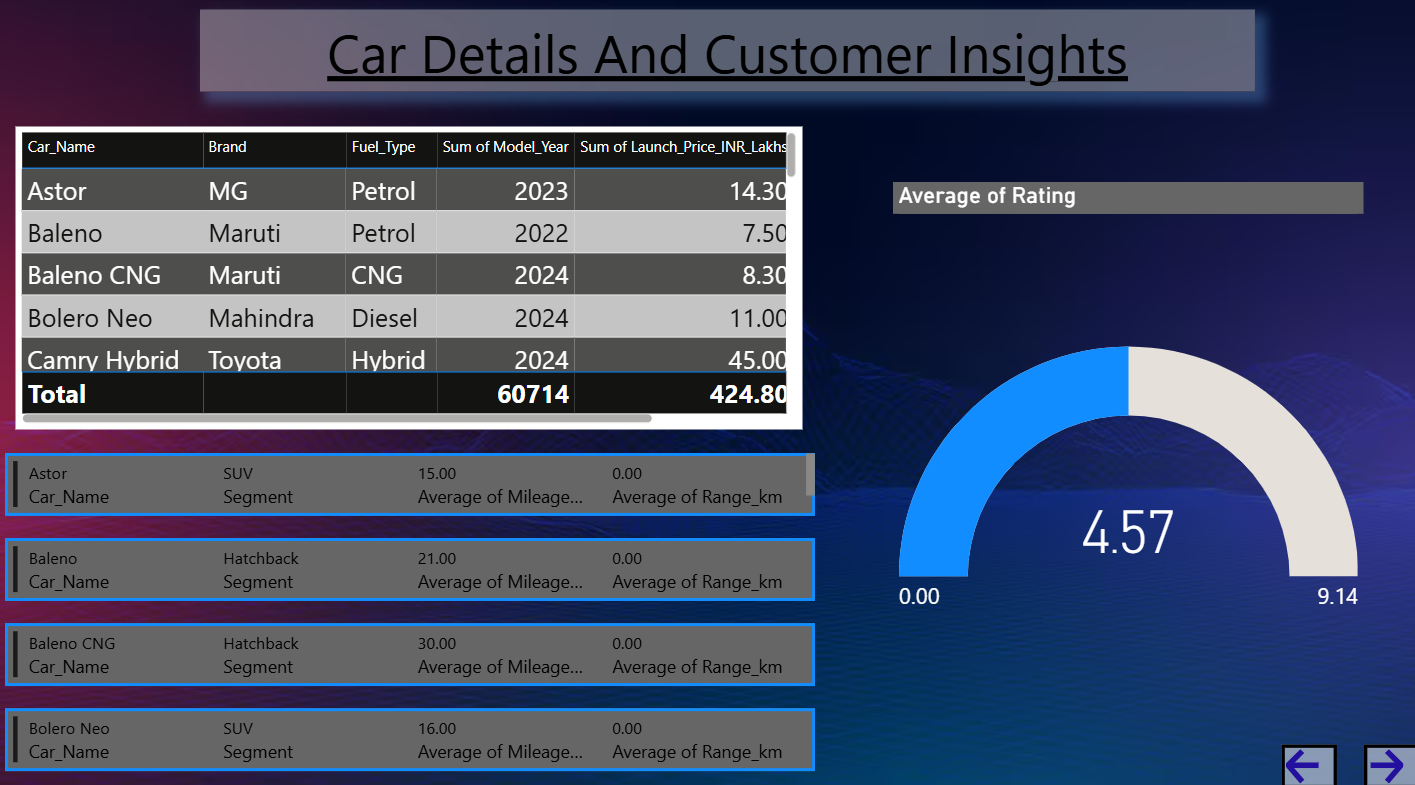

This screenshot's page, from the dashboard's own definition file:
{"tool":"powerbi","page":{"name":"Page 4","canvas":[1280,720],"ordinal":3},"visuals":[{"type":"gauge","fields":{"Y":["Avg(Car_Dashboard_Final_30Cars (1) (1).Rating)"]},"box":[805.6,172.6,424,516.3],"z":1000},{"type":"tableEx","fields":{"Values":["Car_Dashboard_Final_30Cars (1) (1).Car_Name","Car_Dashboard_Final_30Cars (1) (1).Brand","Car_Dashboard_Final_30Cars (1) (1).Fuel_Type","Sum(Car_Dashboard_Final_30Cars (1) (1).Model_Year)","Sum(Car_Dashboard_Final_30Cars (1) (1).Launch_Price_INR_Lakhs)","Avg(Car_Dashboard_Final_30Cars (1) (1).Engine_CC)"]},"box":[15.1,122.7,708.6,272.6],"z":2000},{"type":"multiRowCard","fields":{"Values":["Car_Dashboard_Final_30Cars (1) (1).Car_Name","Car_Dashboard_Final_30Cars (1) (1).Segment","Avg(Car_Dashboard_Final_30Cars (1) (1).Mileage_kmpl)","Avg(Car_Dashboard_Final_30Cars (1) (1).Range_km)"]},"box":[0,411.9,740.4,307.4],"z":3000},{"type":"actionButton","box":[1229.5,679.9,50,39.4],"z":4000},{"type":"actionButton","box":[1155.3,679.9,50,39.4],"z":5000},{"type":"textbox","box":[181.7,18.2,950.9,74.2],"z":6000}]}

Visuals, with their boxes in screenshot pixels (x1, y1, x2, y2), scaled from the page's 1280x720 canvas onto the 1415x785 screenshot:
gauge - Avg(Car_Dashboard_Final_30Cars (1) (1).Rating): rect(891, 188, 1359, 751)
tableEx - Car_Dashboard_Final_30Cars (1) (1).Car_Name x Car_Dashboard_Final_30Cars (1) (1).Brand: rect(17, 134, 800, 431)
multiRowCard - Car_Dashboard_Final_30Cars (1) (1).Car_Name x Car_Dashboard_Final_30Cars (1) (1).Segment: rect(0, 449, 818, 784)
actionButton: rect(1359, 741, 1414, 784)
actionButton: rect(1277, 741, 1332, 784)
textbox: rect(201, 20, 1252, 101)
